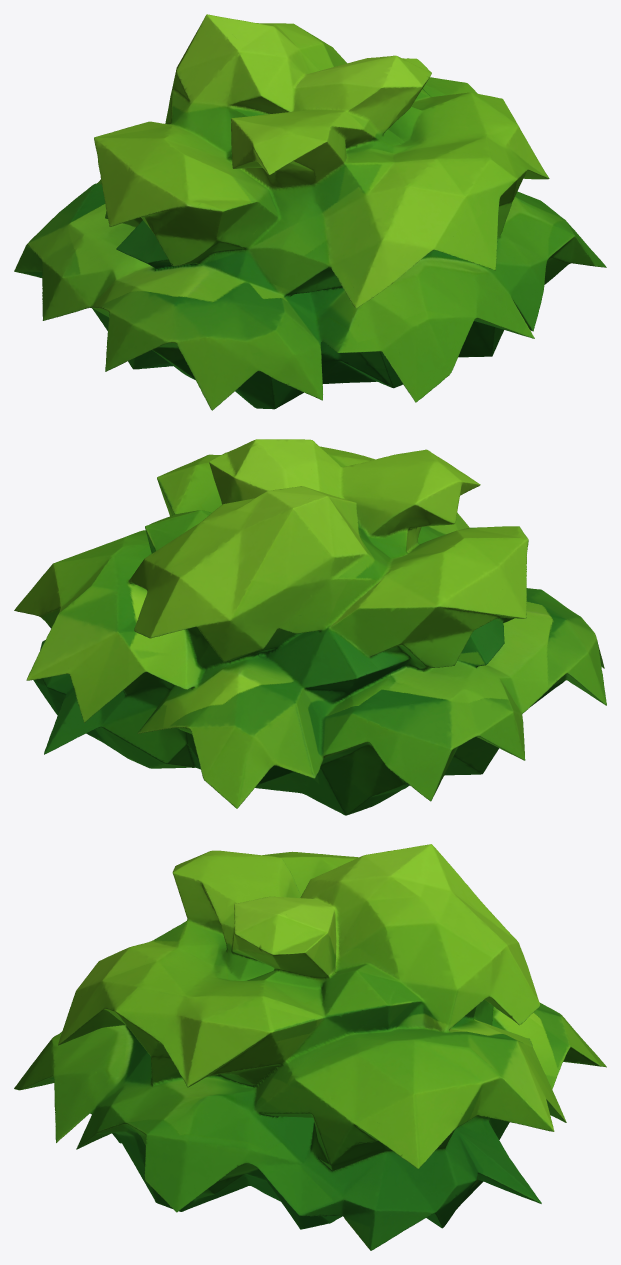
The model's file is arbusto 1.glb.
3 renders of one model, top to bottom at view 1: azimuth 30°, elevation 25°; view 2: azimuth 150°, elevation 25°; view 3: azimuth 270°, elevation 25°, orthographic. The views are drawn at different scales.
Size of the model in its own units: 1.88 by 1.04 by 1.9.
Materials: 1 (1 with a texture image).
